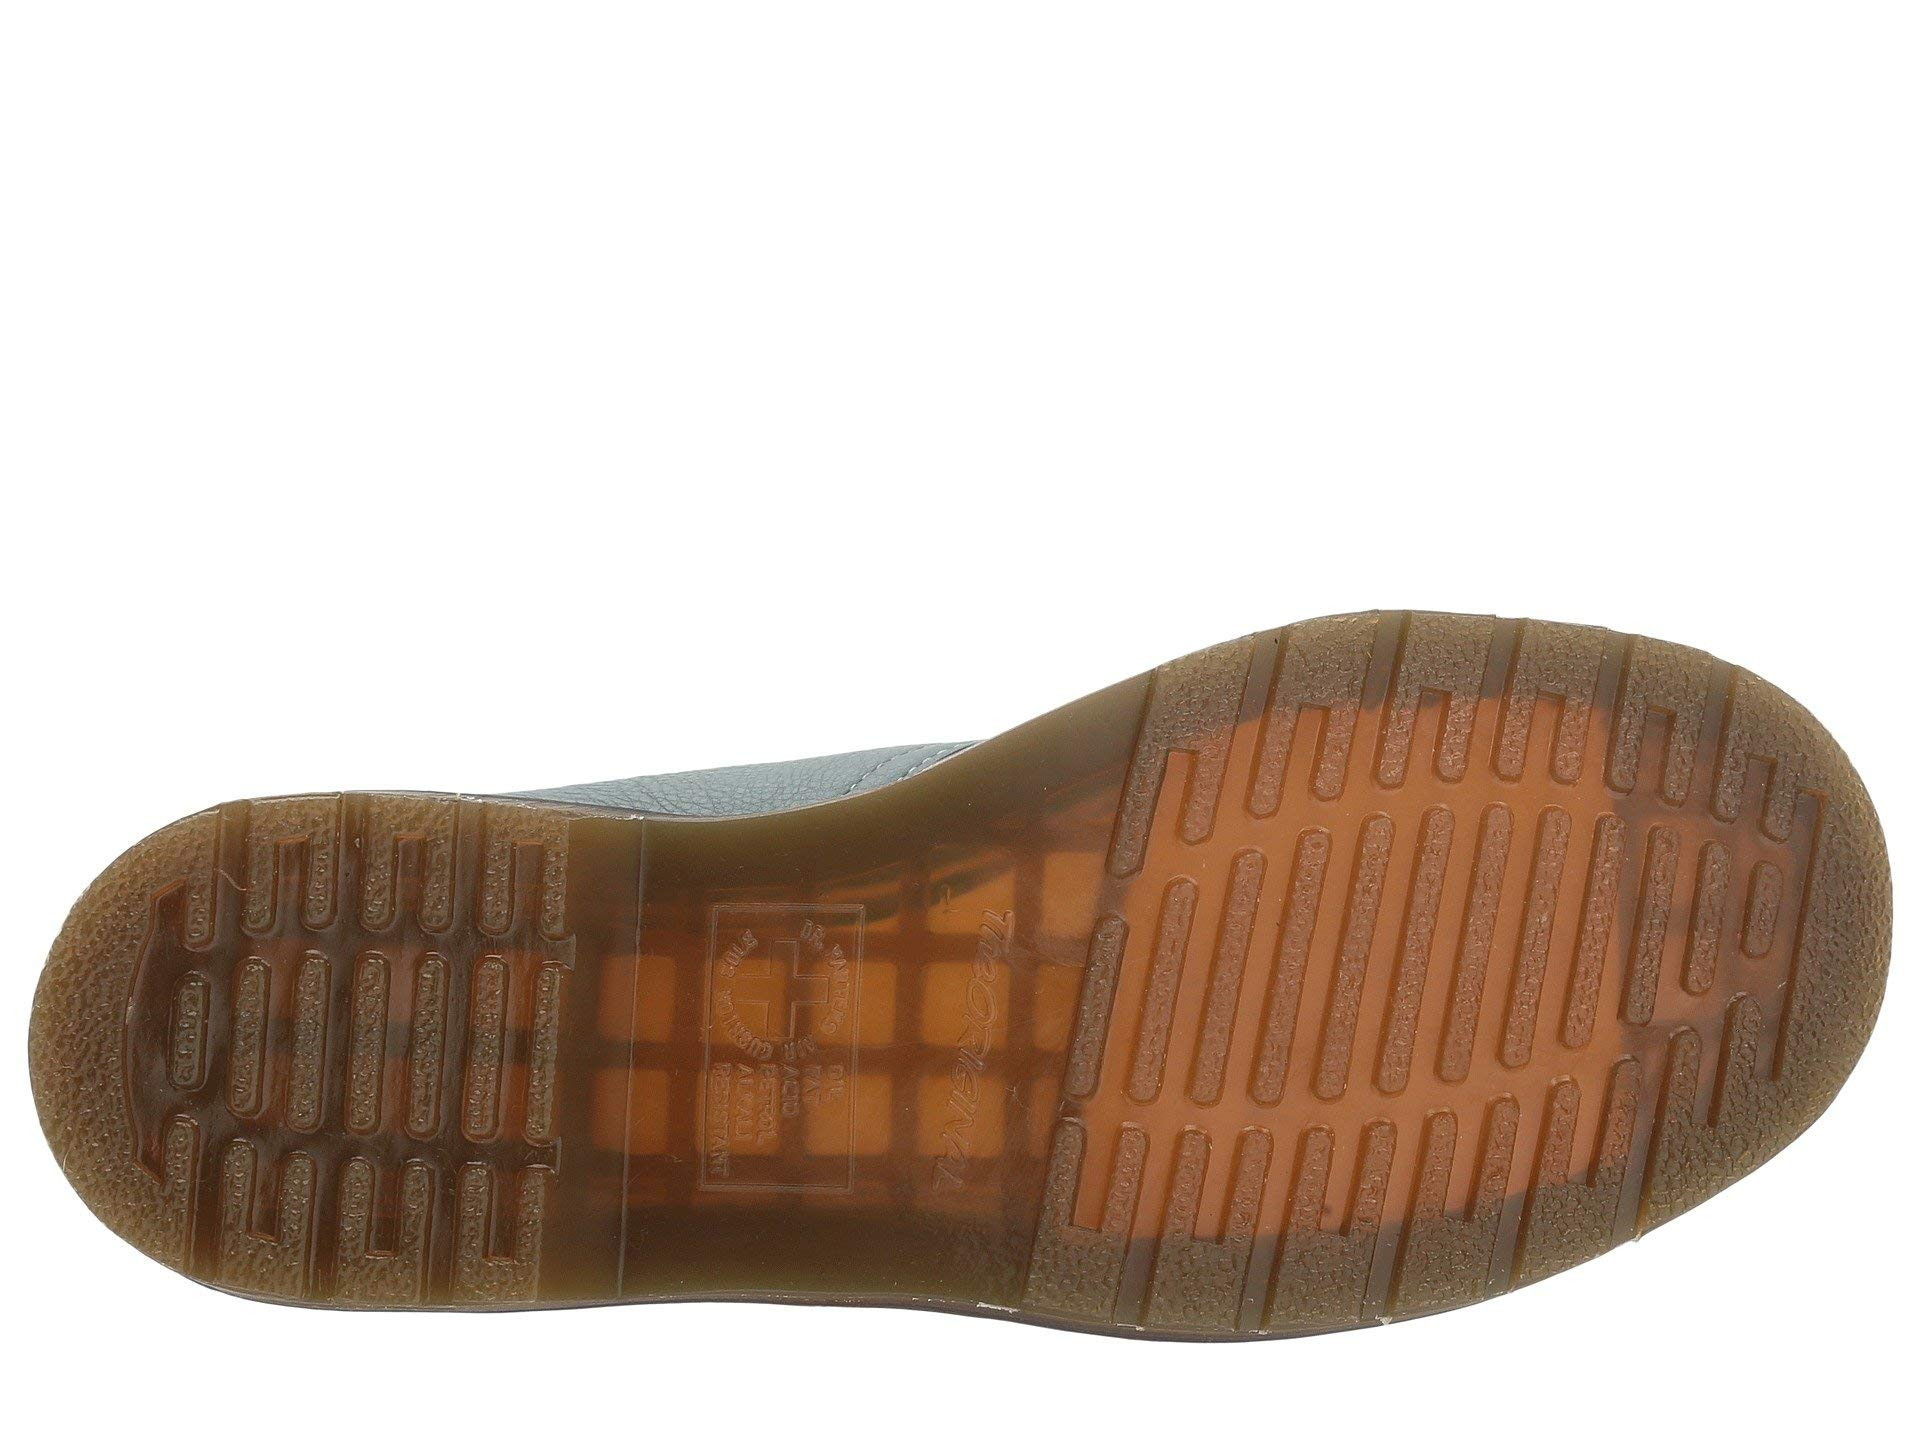circle: (683, 891, 865, 1201)
line: (1243, 799, 1686, 1041), (162, 954, 581, 1145)
other: (1259, 619, 1730, 785)
quad: (683, 891, 865, 1201)
text: (683, 891, 865, 1201), (887, 877, 1027, 1222)
